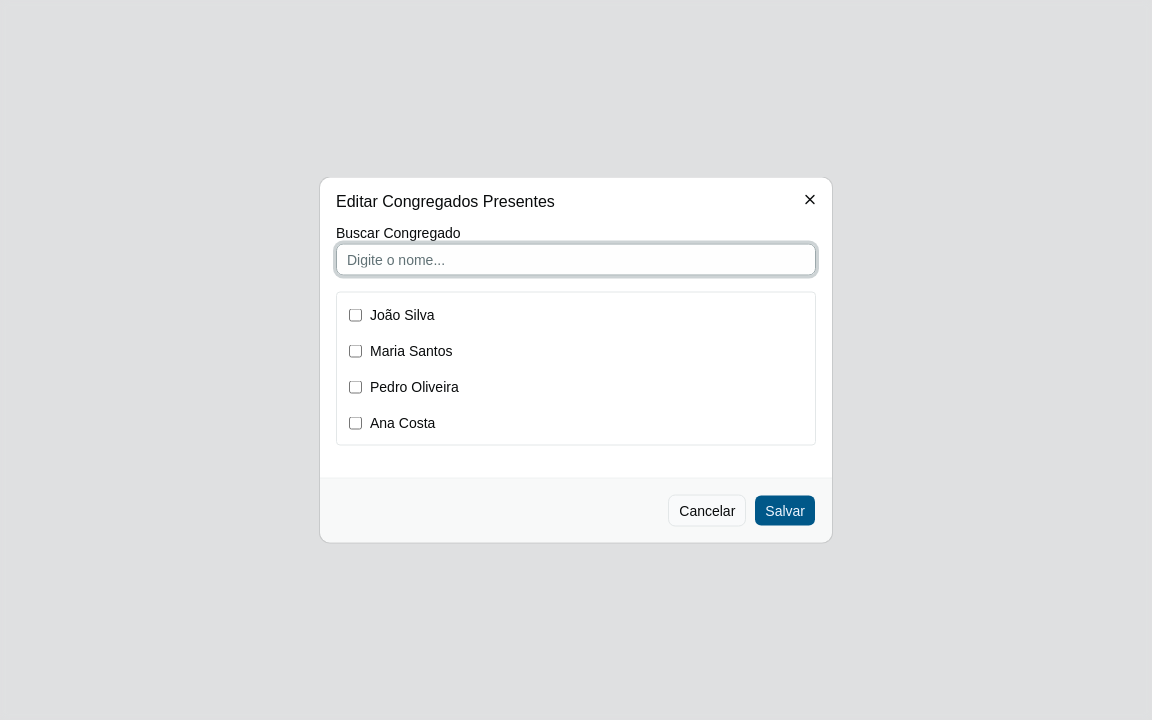
Test: EditAttendersDialog › shows all attenders when search is cleared
In the field with placeholder "Digite o nome...": (576, 260) [336, 244, 816, 276], type "João"
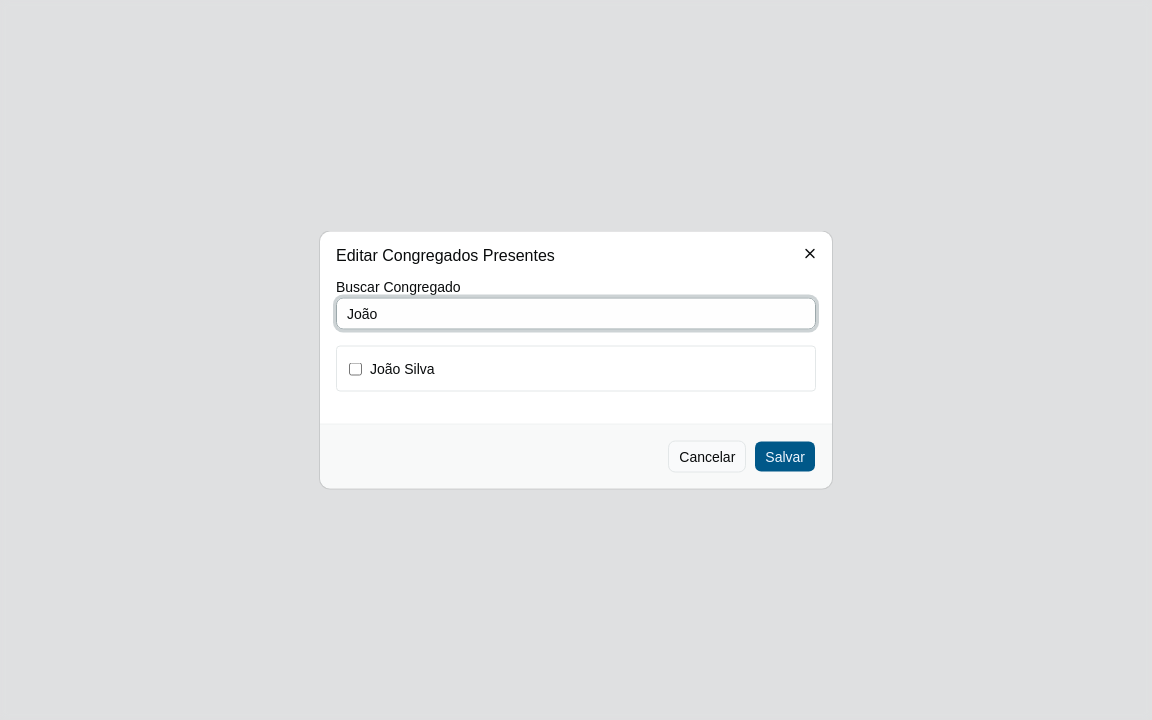
Check: the text "Maria Santos" is gone
Clear the field with placeholder "Digite o nome...": (576, 314) [336, 298, 816, 330]
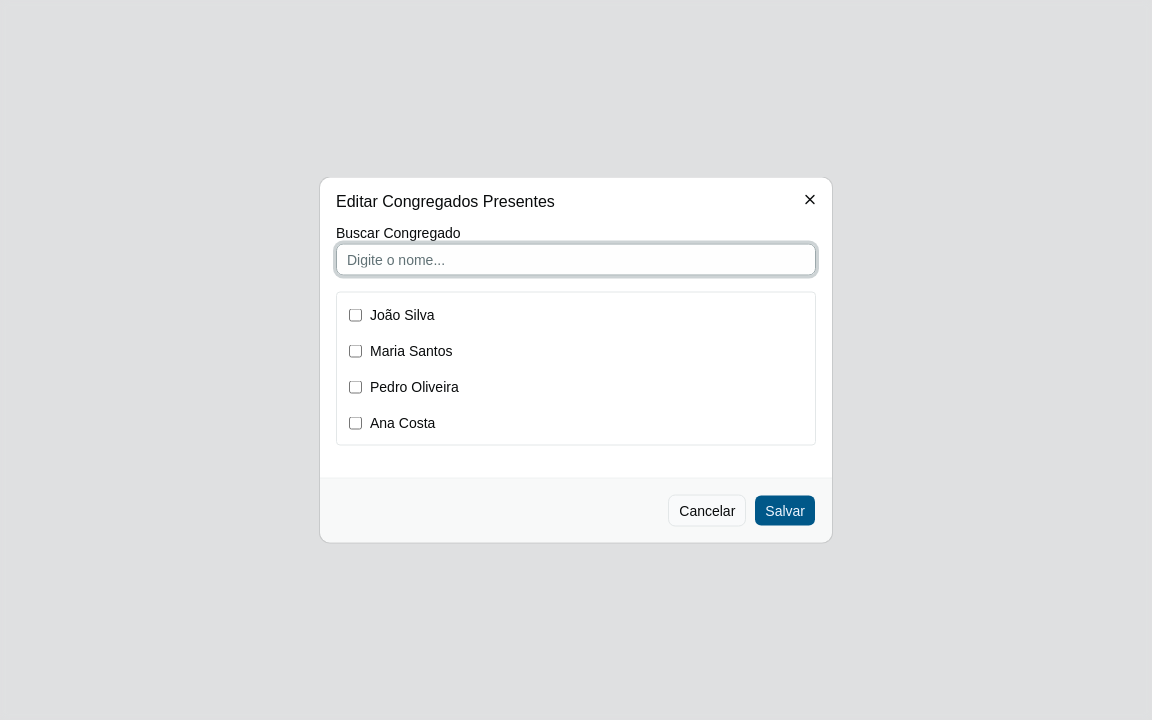
Check: the text "Maria Santos" is shown, box [370, 342, 452, 358]
